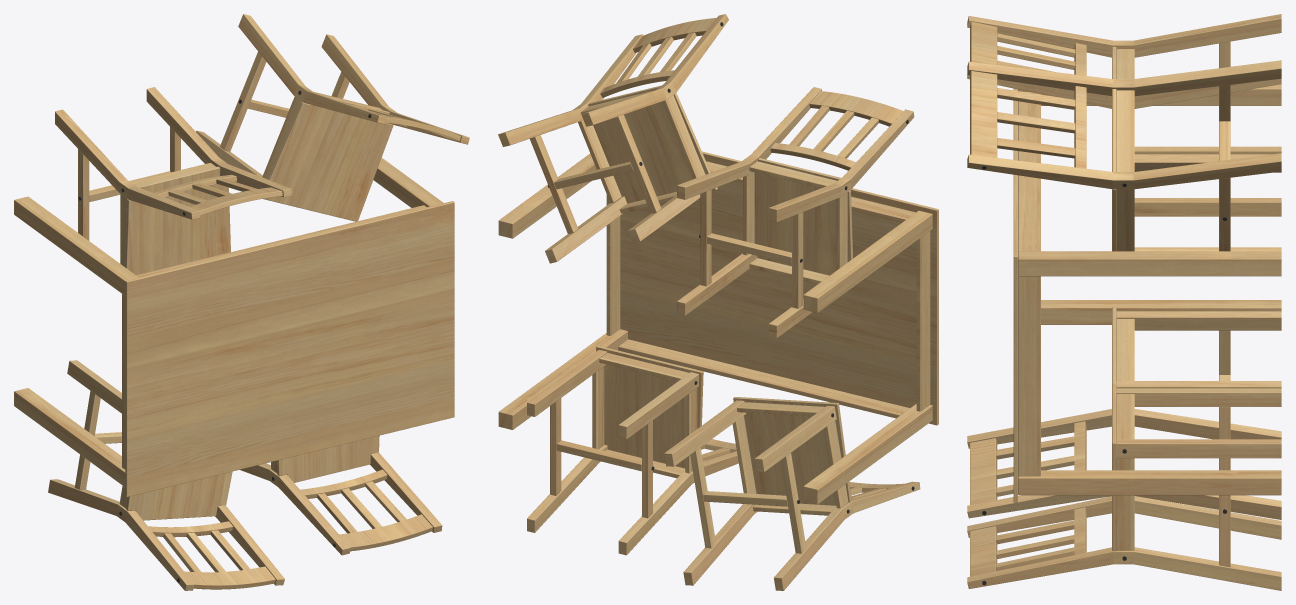
The model's file is dining_set.fbx.
3 renders of one model, left to right at view 1: azimuth 30°, elevation 25°; view 2: azimuth 150°, elevation 25°; view 3: azimuth 270°, elevation 25°, orthographic. The views are drawn at different scales.
Parts seen in each view (by area): view 1: tt, c2, c1, c4, c3, Group005, b; view 2: tt, c1, c2, c4, c3, Group005, b; view 3: c3, c2, Group005, c4, c1, b, tt.
Part boxes in pixels (x1,y1,x2,y2): tt: [125, 201, 454, 496]; c2: [196, 14, 469, 221]; c1: [55, 87, 291, 275]; c4: [48, 360, 284, 590]; c3: [239, 435, 442, 555]; Group005: [14, 158, 443, 486]; b: [122, 205, 426, 469]; tt: [620, 151, 938, 425]; c1: [677, 87, 914, 338]; c2: [498, 14, 728, 263]; c4: [664, 397, 920, 590]; c3: [527, 345, 738, 555]; Group005: [498, 153, 932, 504]; b: [606, 161, 930, 418]; c3: [967, 384, 1281, 590]; c2: [967, 60, 1281, 251]; Group005: [1018, 84, 1281, 495]; c4: [967, 307, 1281, 519]; c1: [967, 14, 1281, 216]; b: [1018, 92, 1040, 476]; tt: [1013, 88, 1017, 502].
Bounding box in the file's own units: 46.46 × 60.78 × 33.72.
